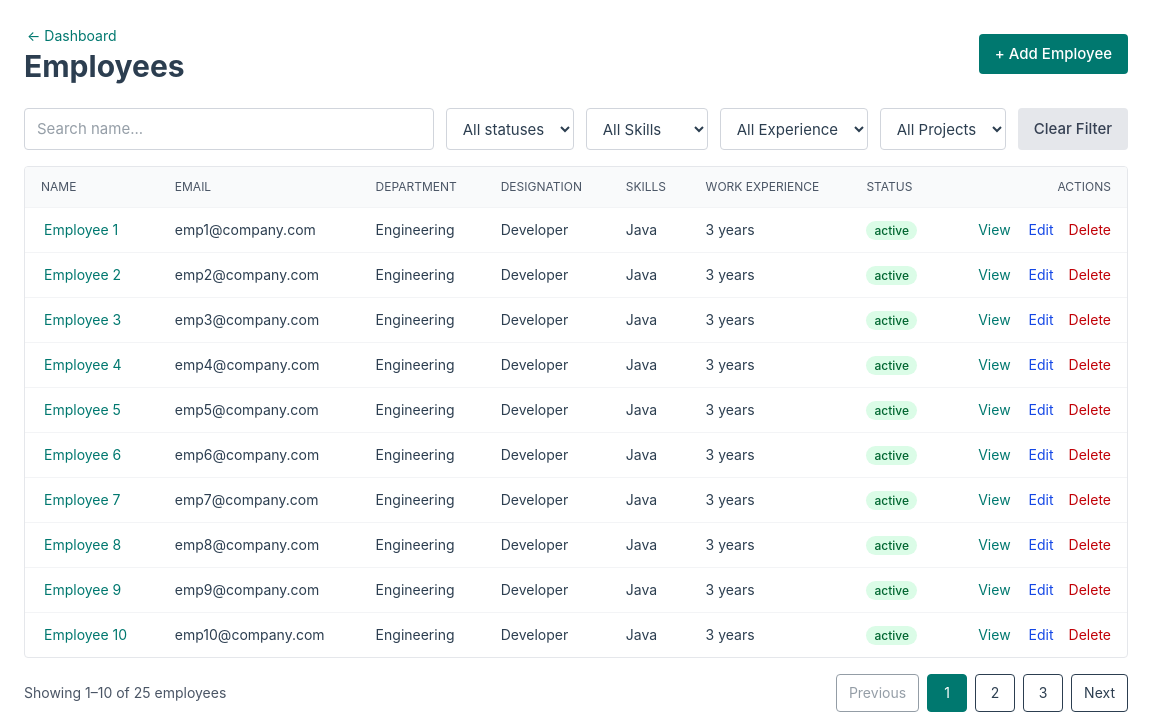
Scenario: EmployeeListView › returns to page 1 when a filter changes
Step 1. Click the button named "Page 2" → point(995, 693), box [975,674,1015,712]
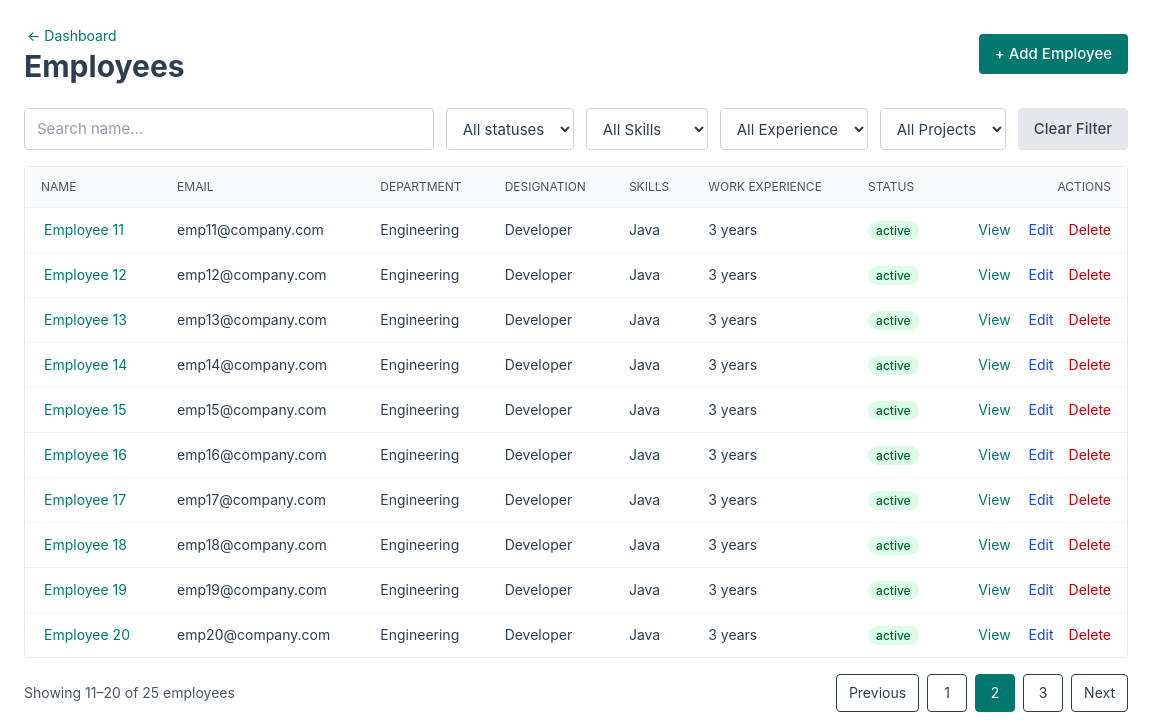
Step 2. Type "Employee" into the search field with placeholder "Search name..." → point(229, 129), box [24,108,434,150]
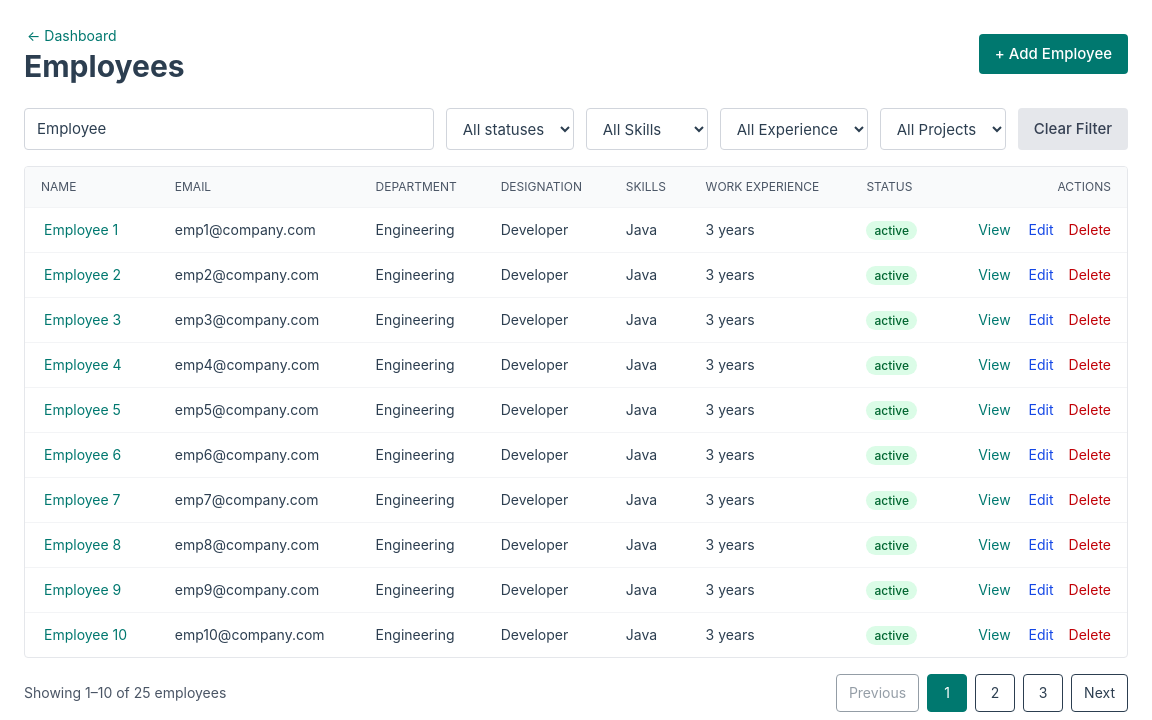
Expected: the text "Showing 1–10 of 25 employees" is shown, [24,683,226,703]
